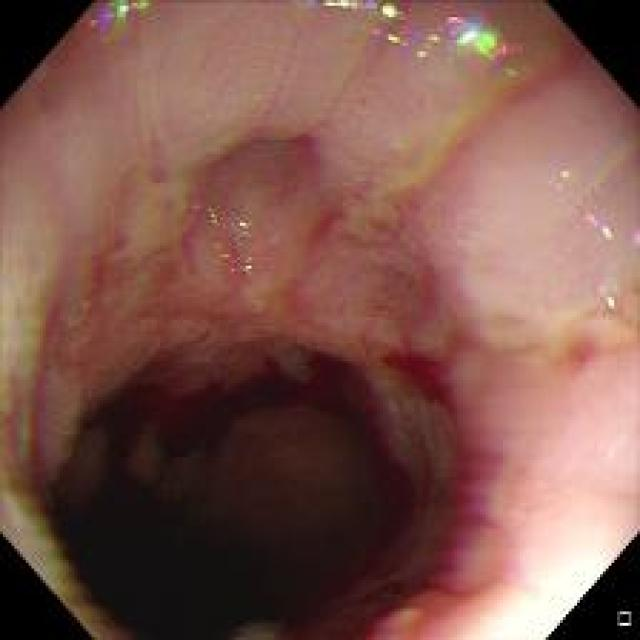color misalignment: (411, 248, 515, 616), (11, 282, 92, 601), (375, 2, 538, 81), (198, 199, 265, 292), (395, 394, 442, 501), (78, 4, 164, 35), (289, 1, 380, 19), (546, 165, 588, 201), (580, 198, 612, 245), (595, 274, 626, 315), (356, 18, 382, 41), (629, 224, 638, 249)
contrast: (50, 394, 449, 635)
saturation: (484, 512, 634, 635)
